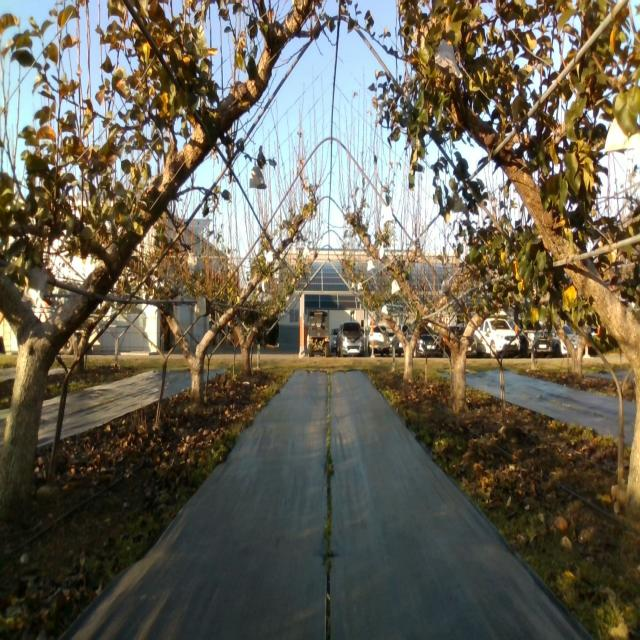pearbags: (604, 115, 640, 152), (435, 38, 463, 81), (21, 264, 48, 305), (250, 162, 268, 190), (187, 249, 204, 274), (452, 192, 466, 214), (441, 278, 452, 298)
